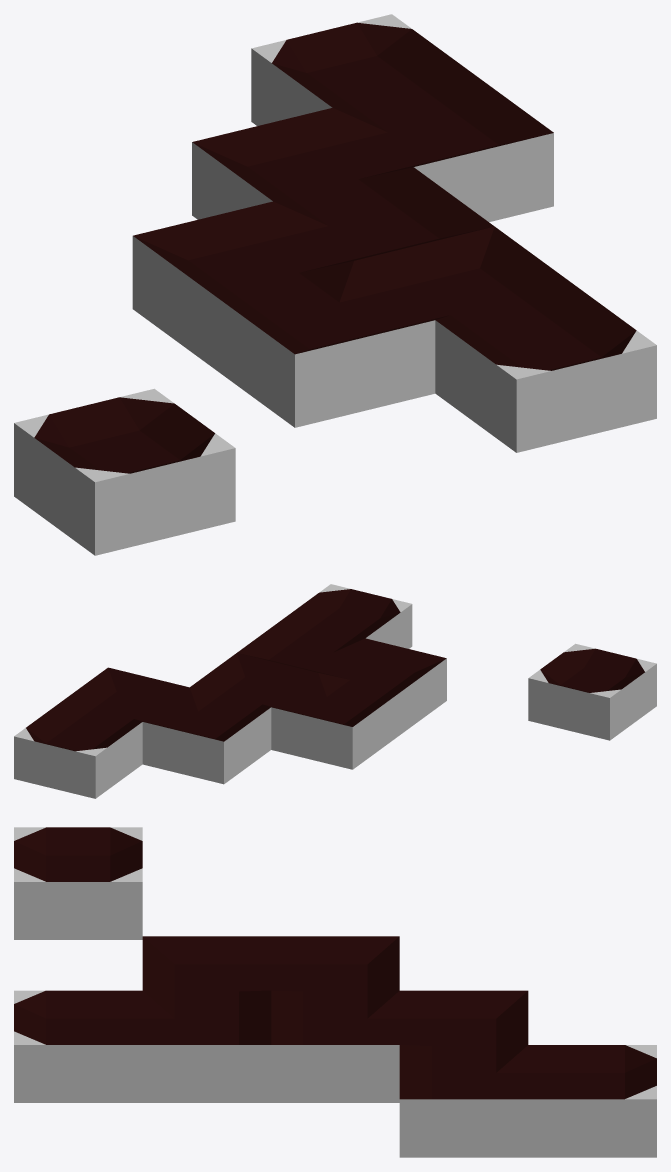
The model's file is 19s_path.obj.
The picture shows the model from 3 angles, top to bottom: view 1: azimuth 30°, elevation 25°; view 2: azimuth 150°, elevation 25°; view 3: azimuth 270°, elevation 25°; orthographic projection. The views are drawn at different scales.
Visible parts, largest first — view 1: hole.0.0_Cube.188, ending.3.0_ending.373, corner.2.1_corner.930, corner.2.2_corner.931, corner.4.3_corner.935, ending.4.4_ending.374, corner.3.3_corner.934, corner.3.1_corner.932, corner.3.2_corner.933; view 2: hole.0.0_Cube.188, ending.4.4_ending.374, corner.3.3_corner.934, corner.2.2_corner.931, corner.2.1_corner.930, ending.3.0_ending.373, corner.4.3_corner.935, corner.3.2_corner.933, corner.3.1_corner.932; view 3: hole.0.0_Cube.188, ending.3.0_ending.373, ending.4.4_ending.374, corner.4.3_corner.935, corner.3.1_corner.932, corner.3.2_corner.933, corner.3.3_corner.934, corner.2.1_corner.930, corner.2.2_corner.931.
Part boxes in pixels (box(x1,y1,x2,y2)): hole.0.0_Cube.188: box(14, 388, 235, 555); ending.3.0_ending.373: box(435, 286, 656, 452); corner.2.1_corner.930: box(214, 261, 435, 427); corner.2.2_corner.931: box(132, 201, 353, 368); corner.4.3_corner.935: box(333, 73, 553, 221); ending.4.4_ending.374: box(251, 14, 472, 125); corner.3.3_corner.934: box(192, 108, 412, 219); corner.3.1_corner.932: box(354, 226, 575, 329); corner.3.2_corner.933: box(273, 167, 494, 264); hole.0.0_Cube.188: box(528, 643, 656, 740); ending.4.4_ending.374: box(14, 702, 142, 798); corner.3.3_corner.934: box(142, 687, 271, 784); corner.2.2_corner.931: box(271, 673, 399, 769); corner.2.1_corner.930: box(319, 638, 446, 734); ending.3.0_ending.373: box(284, 584, 412, 648); corner.4.3_corner.935: box(61, 667, 189, 727); corner.3.2_corner.933: box(190, 653, 317, 712); corner.3.1_corner.932: box(237, 618, 364, 674); hole.0.0_Cube.188: box(14, 827, 142, 939); ending.3.0_ending.373: box(14, 990, 142, 1102); ending.4.4_ending.374: box(528, 1045, 656, 1157); corner.4.3_corner.935: box(399, 1045, 528, 1157); corner.3.1_corner.932: box(142, 991, 271, 1102); corner.3.2_corner.933: box(271, 990, 399, 1102); corner.3.3_corner.934: box(399, 990, 528, 1059); corner.2.1_corner.930: box(142, 936, 271, 1004); corner.2.2_corner.931: box(271, 936, 399, 1004).
Size of the model in its own units: 10 by 1 by 10.
